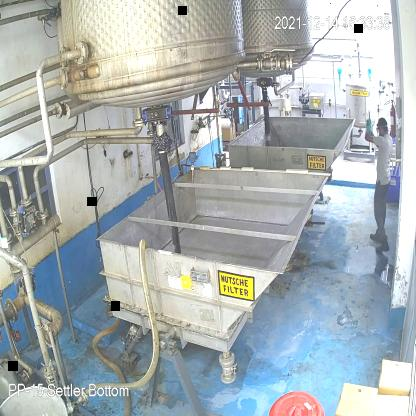shoes: (373, 235, 390, 256)
